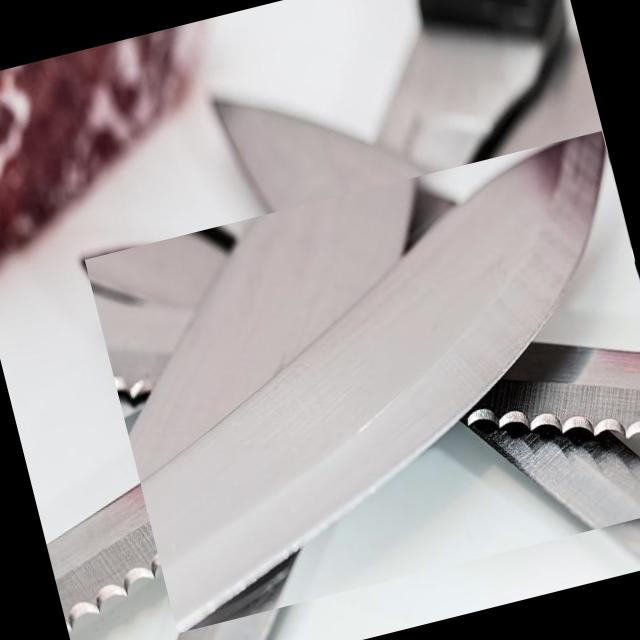Knife: (139, 130, 604, 633), (216, 102, 640, 348), (47, 415, 341, 630), (177, 458, 340, 640), (529, 164, 637, 282)
